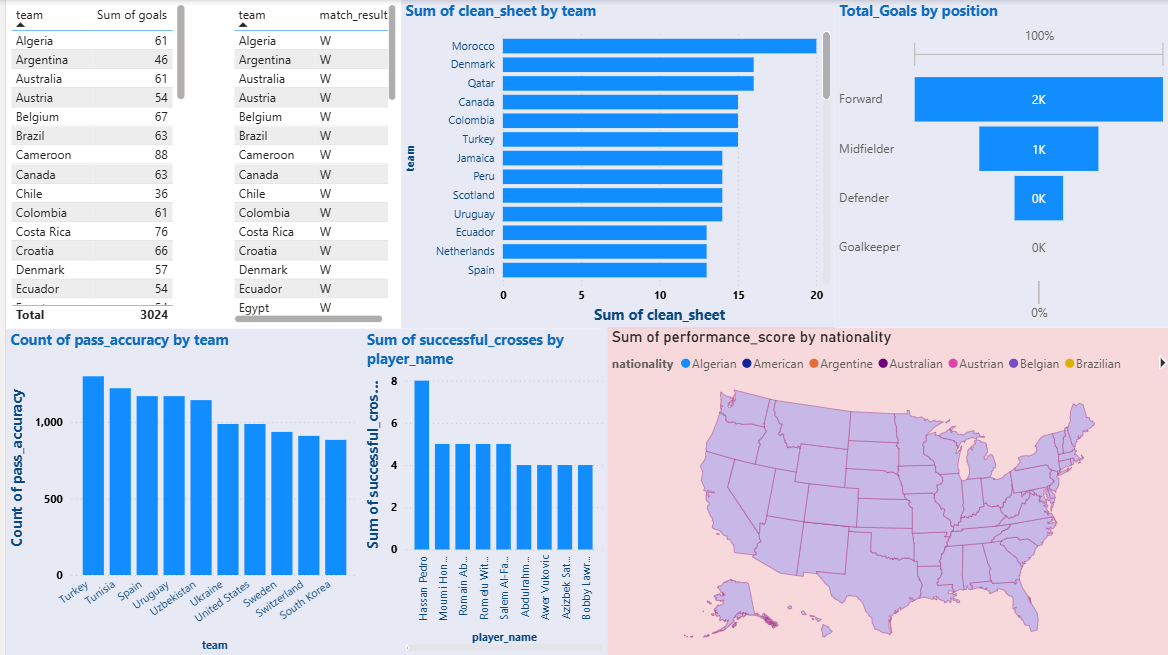

The page's visual inventory and layout, read from the dashboard file:
{"tool":"powerbi","page":{"name":"Team Analysis","canvas":[1280,720],"ordinal":1},"visuals":[{"type":"tableEx","fields":{"Values":["fifa_world_cup_2026_player_perf.team","Sum(fifa_world_cup_2026_player_perf.goals)"]},"box":[0,0,201.5,360],"z":0},{"type":"columnChart","fields":{"Category":["fifa_world_cup_2026_player_perf.team"],"Y":["CountNonNull(fifa_world_cup_2026_player_perf.pass_accuracy)"]},"box":[0,360.9,391.1,359.5],"z":1000},{"type":"barChart","fields":{"Category":["fifa_world_cup_2026_player_perf.team"],"Y":["Sum(fifa_world_cup_2026_player_perf.clean_sheet)"]},"box":[433.6,0,476.2,360.9],"z":2000},{"type":"tableEx","fields":{"Values":["fifa_world_cup_2026_player_perf.team","fifa_world_cup_2026_player_perf.match_result"]},"box":[244.3,0,189.4,359.5],"z":4000},{"type":"shapeMap","fields":{"Series":["fifa_world_cup_2026_player_perf.nationality"],"Value":["Sum(fifa_world_cup_2026_player_perf.performance_score)"]},"box":[660,360,620,360],"z":5000},{"type":"funnel","fields":{"Category":["fifa_world_cup_2026_player_perf.position"],"Y":["fifa_world_cup_2026_player_perf.Total_Goals"]},"box":[909.8,0,370.5,359.5],"z":5001},{"type":"columnChart","fields":{"Category":["fifa_world_cup_2026_player_perf.player_name"],"Y":["Sum(fifa_world_cup_2026_player_perf.successful_crosses)"]},"box":[391.1,360.9,269,359.5],"z":5002}]}

Visuals, with their boxes in screenshot pixels (x1, y1, x2, y2), scaled from the page's 1280x720 canvas onto the 1168x655 screenshot:
tableEx - fifa_world_cup_2026_player_perf.team x Sum(fifa_world_cup_2026_player_perf.goals): {"x1": 0, "y1": 0, "x2": 184, "y2": 328}
columnChart - fifa_world_cup_2026_player_perf.team x CountNonNull(fifa_world_cup_2026_player_perf.pass_accuracy): {"x1": 0, "y1": 328, "x2": 357, "y2": 654}
barChart - fifa_world_cup_2026_player_perf.team x Sum(fifa_world_cup_2026_player_perf.clean_sheet): {"x1": 396, "y1": 0, "x2": 830, "y2": 328}
tableEx - fifa_world_cup_2026_player_perf.team x fifa_world_cup_2026_player_perf.match_result: {"x1": 223, "y1": 0, "x2": 396, "y2": 327}
shapeMap - fifa_world_cup_2026_player_perf.nationality x Sum(fifa_world_cup_2026_player_perf.performance_score): {"x1": 602, "y1": 328, "x2": 1167, "y2": 654}
funnel - fifa_world_cup_2026_player_perf.position x fifa_world_cup_2026_player_perf.Total_Goals: {"x1": 830, "y1": 0, "x2": 1167, "y2": 327}
columnChart - fifa_world_cup_2026_player_perf.player_name x Sum(fifa_world_cup_2026_player_perf.successful_crosses): {"x1": 357, "y1": 328, "x2": 602, "y2": 654}
